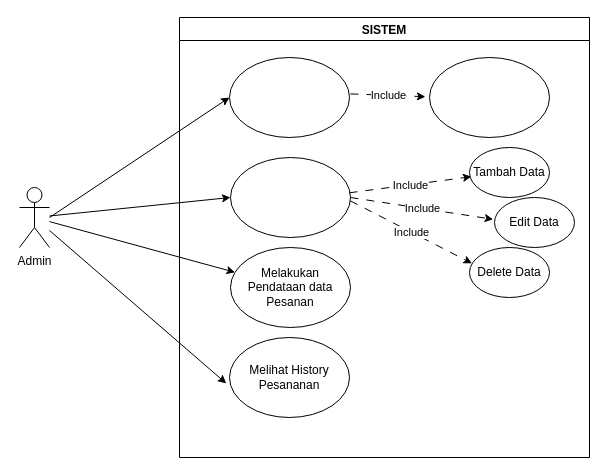
Image size: 607x475. Some labels were removed from this diagram. Each missing label, with the centre of its shape:
"Autentikasi User" belongs at point 489,97.
"Login" belongs at point 289,97.
"Mengelola Data barang" belongs at point 290,197.
